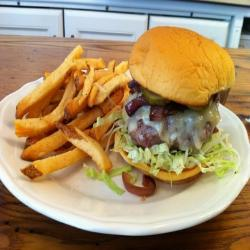burger: (118, 16, 230, 197)
fries: (23, 48, 125, 189)
